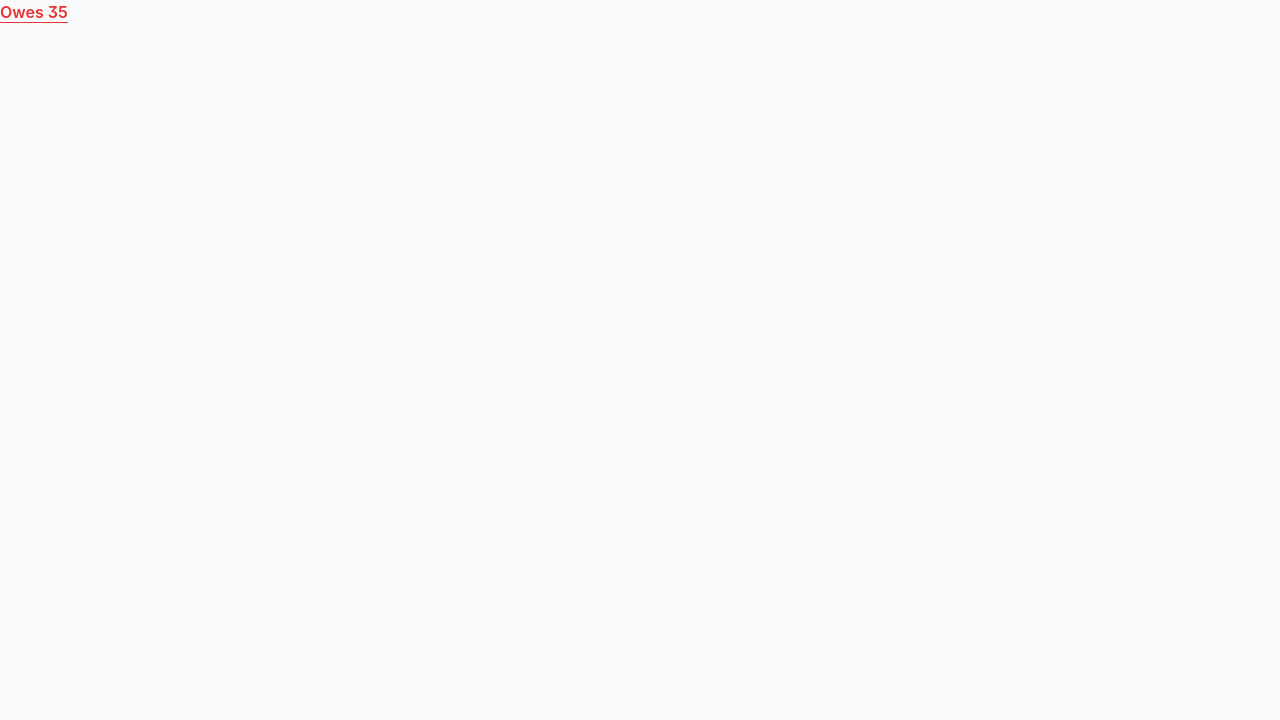
TeamBalanceCell (issue #48) › shows what the team owes and its charges
This screenshot has width=1280, height=720.
Click the button "Owes 35" at (34, 12), box x1=0 y1=0 x2=68 y2=24
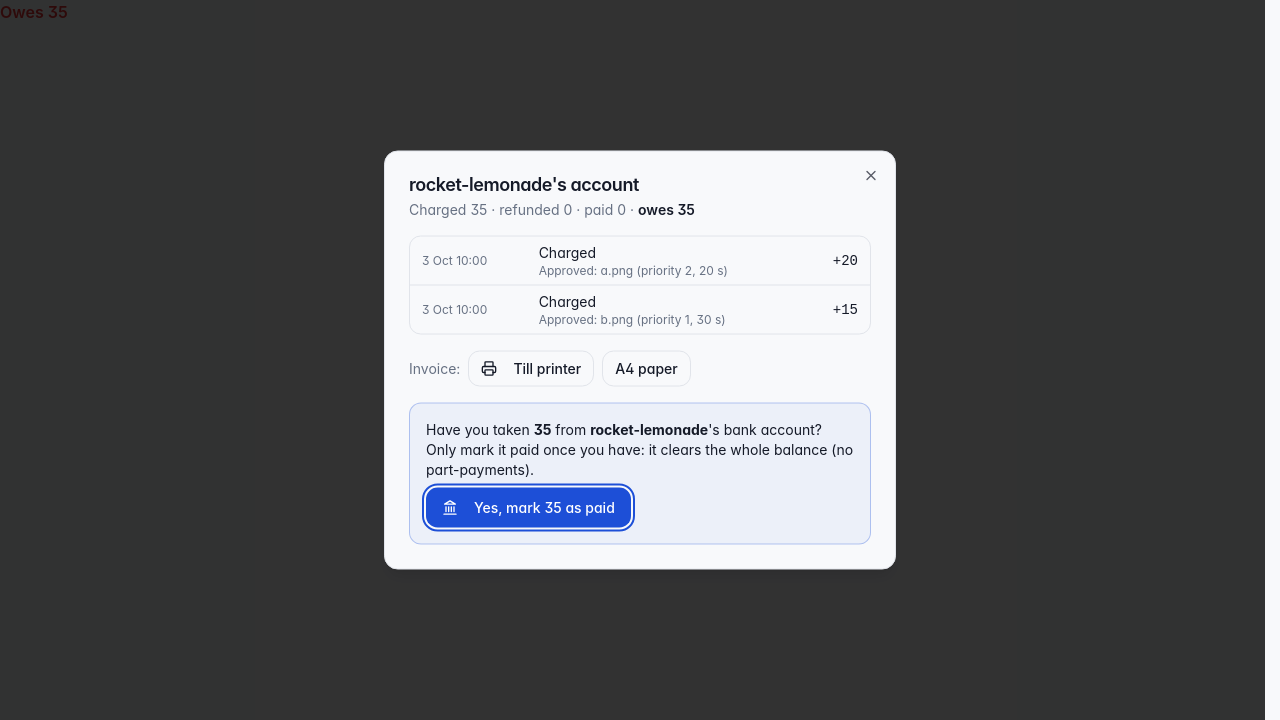
expect the text "Approved: a.png (priority 2, 20 s)" is shown: met, box x1=539 y1=262 x2=728 y2=278
expect the text "Only mark it paid once you have" is shown: met, box x1=426 y1=420 x2=853 y2=478
